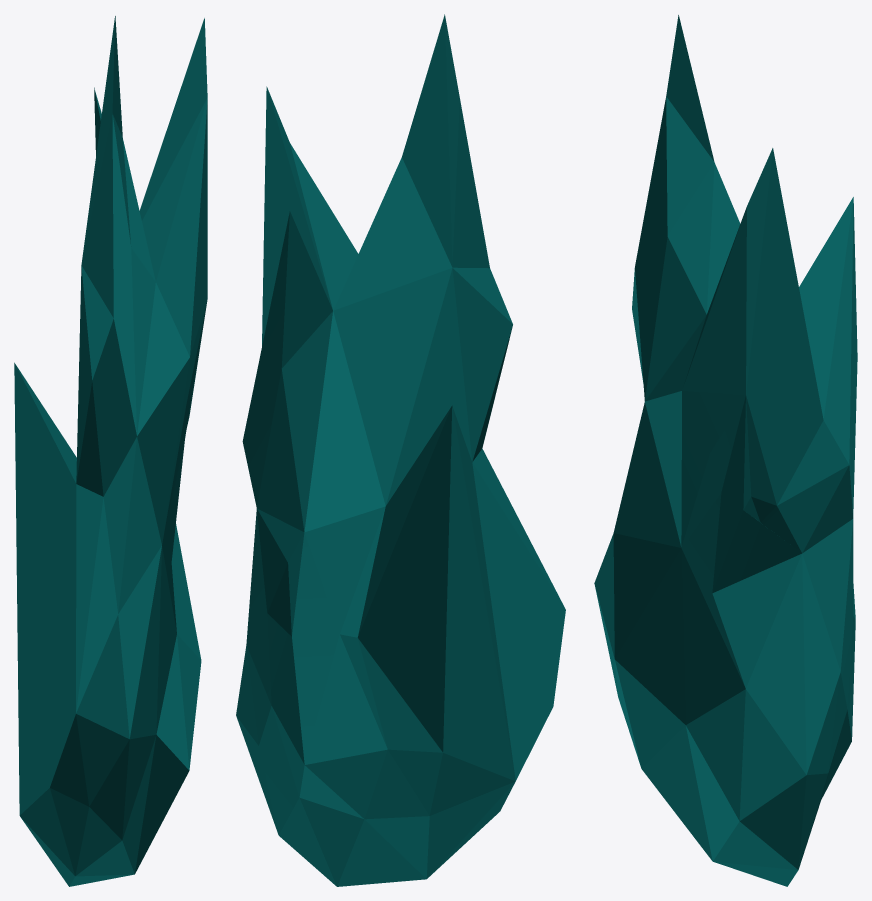
Rendered from crystal.obj.
3 views of the same model, side by side, from view 1: azimuth 30°, elevation 25°; view 2: azimuth 150°, elevation 25°; view 3: azimuth 270°, elevation 25° (orthographic). The views are drawn at different scales.
Parts seen in each view (by area): view 1: default_0; view 2: default_0; view 3: default_0.
Boxes of the visible parts, x1=… form: default_0: x1=14, y1=16, x2=207, y2=886; default_0: x1=236, y1=14, x2=565, y2=886; default_0: x1=594, y1=15, x2=857, y2=886.
Bounding box in the file's own units: 0.8528 × 3 × 0.8447.
